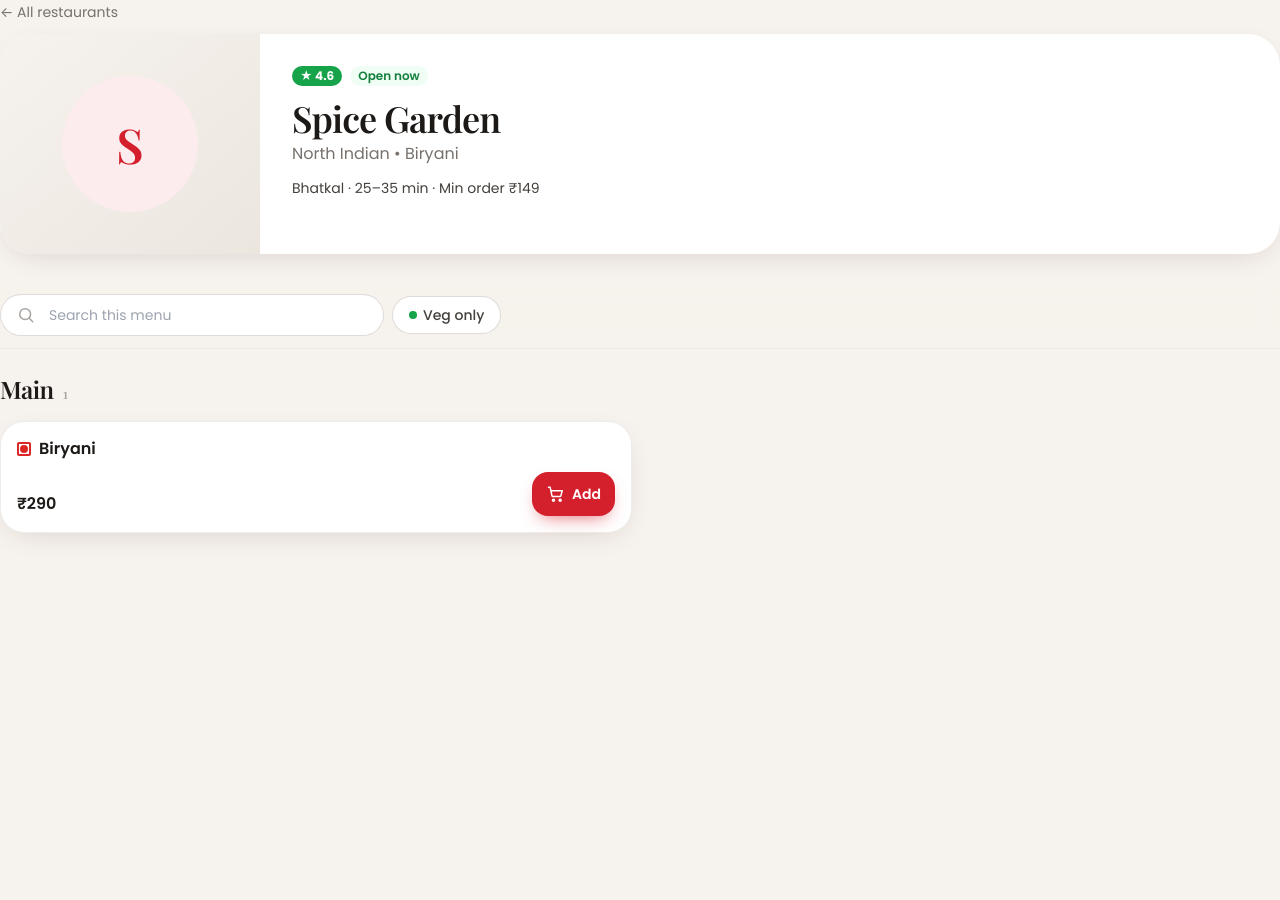
Test: browse › opens the options dialog for dishes with variants/add-ons
Click the button with aria-label "Add Biryani" at (574, 494), box [532,472,615,516]
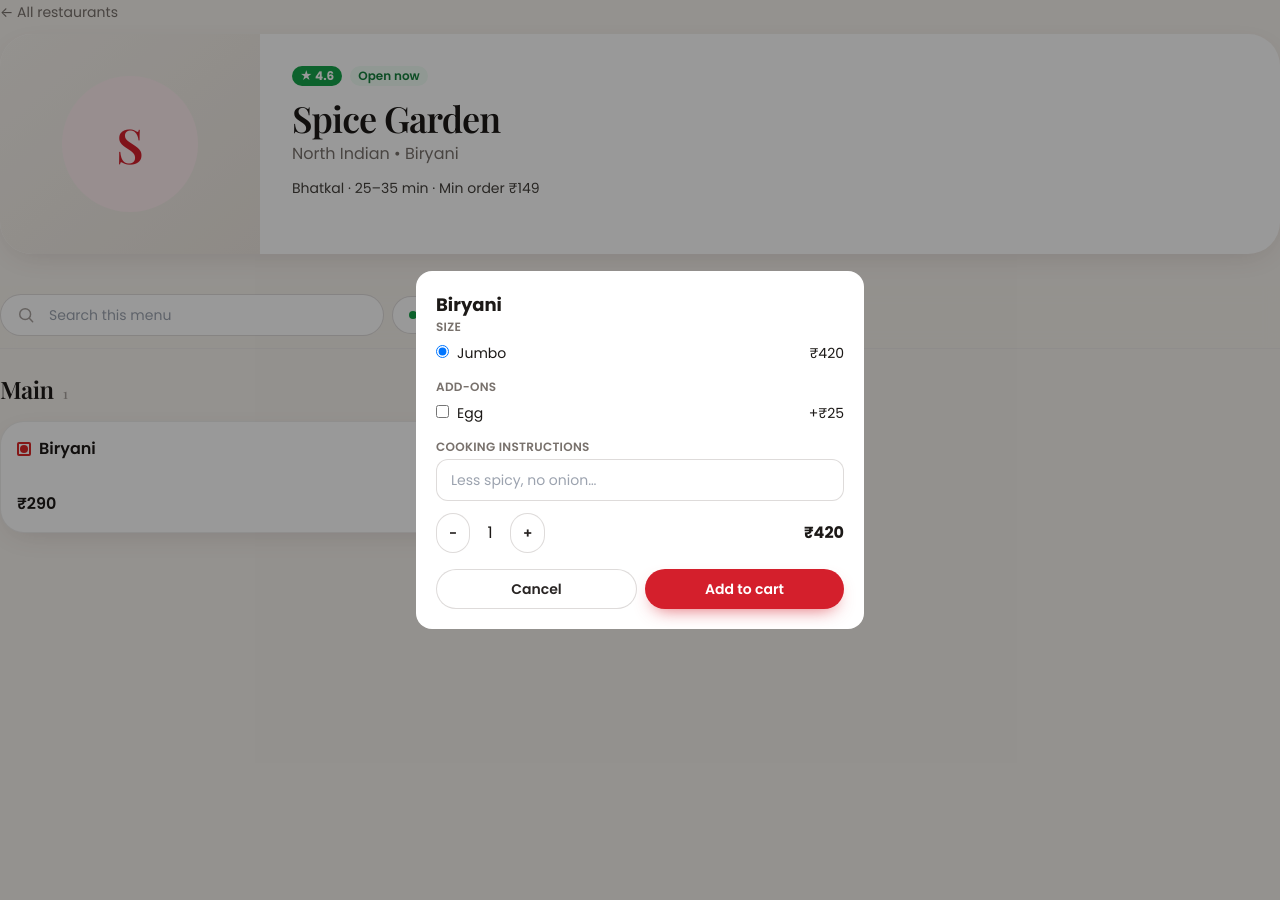
Click the checkbox labelled "Egg +₹25" at (442, 412), box [436,405,449,418]
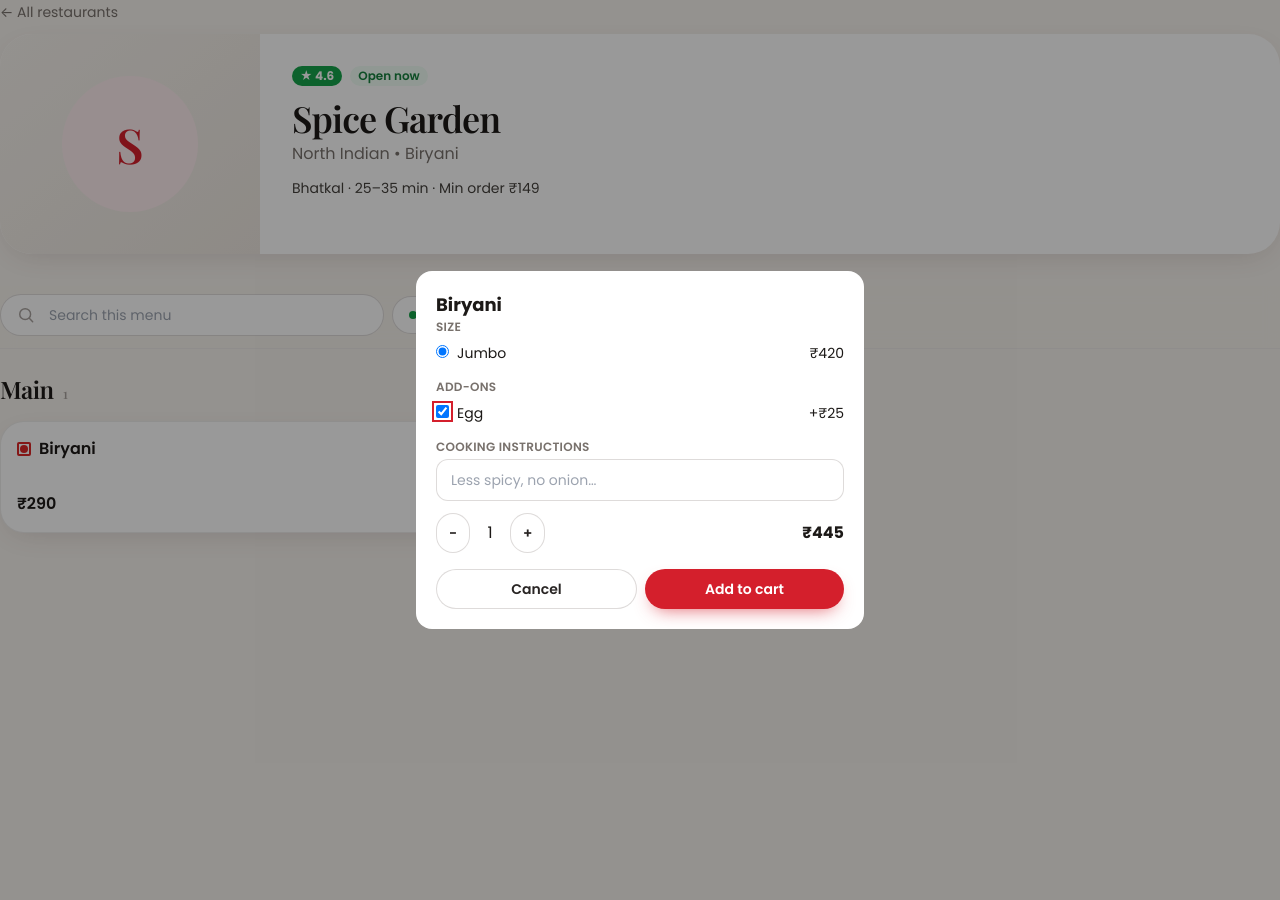
Check: the dialog shows "₹445", box [802,521,844,544]
